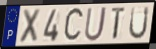4: (42, 8, 60, 44)
C: (62, 6, 85, 44)
T: (110, 6, 127, 42)
U: (83, 6, 108, 43), (128, 5, 151, 41)
X: (18, 8, 42, 45)
